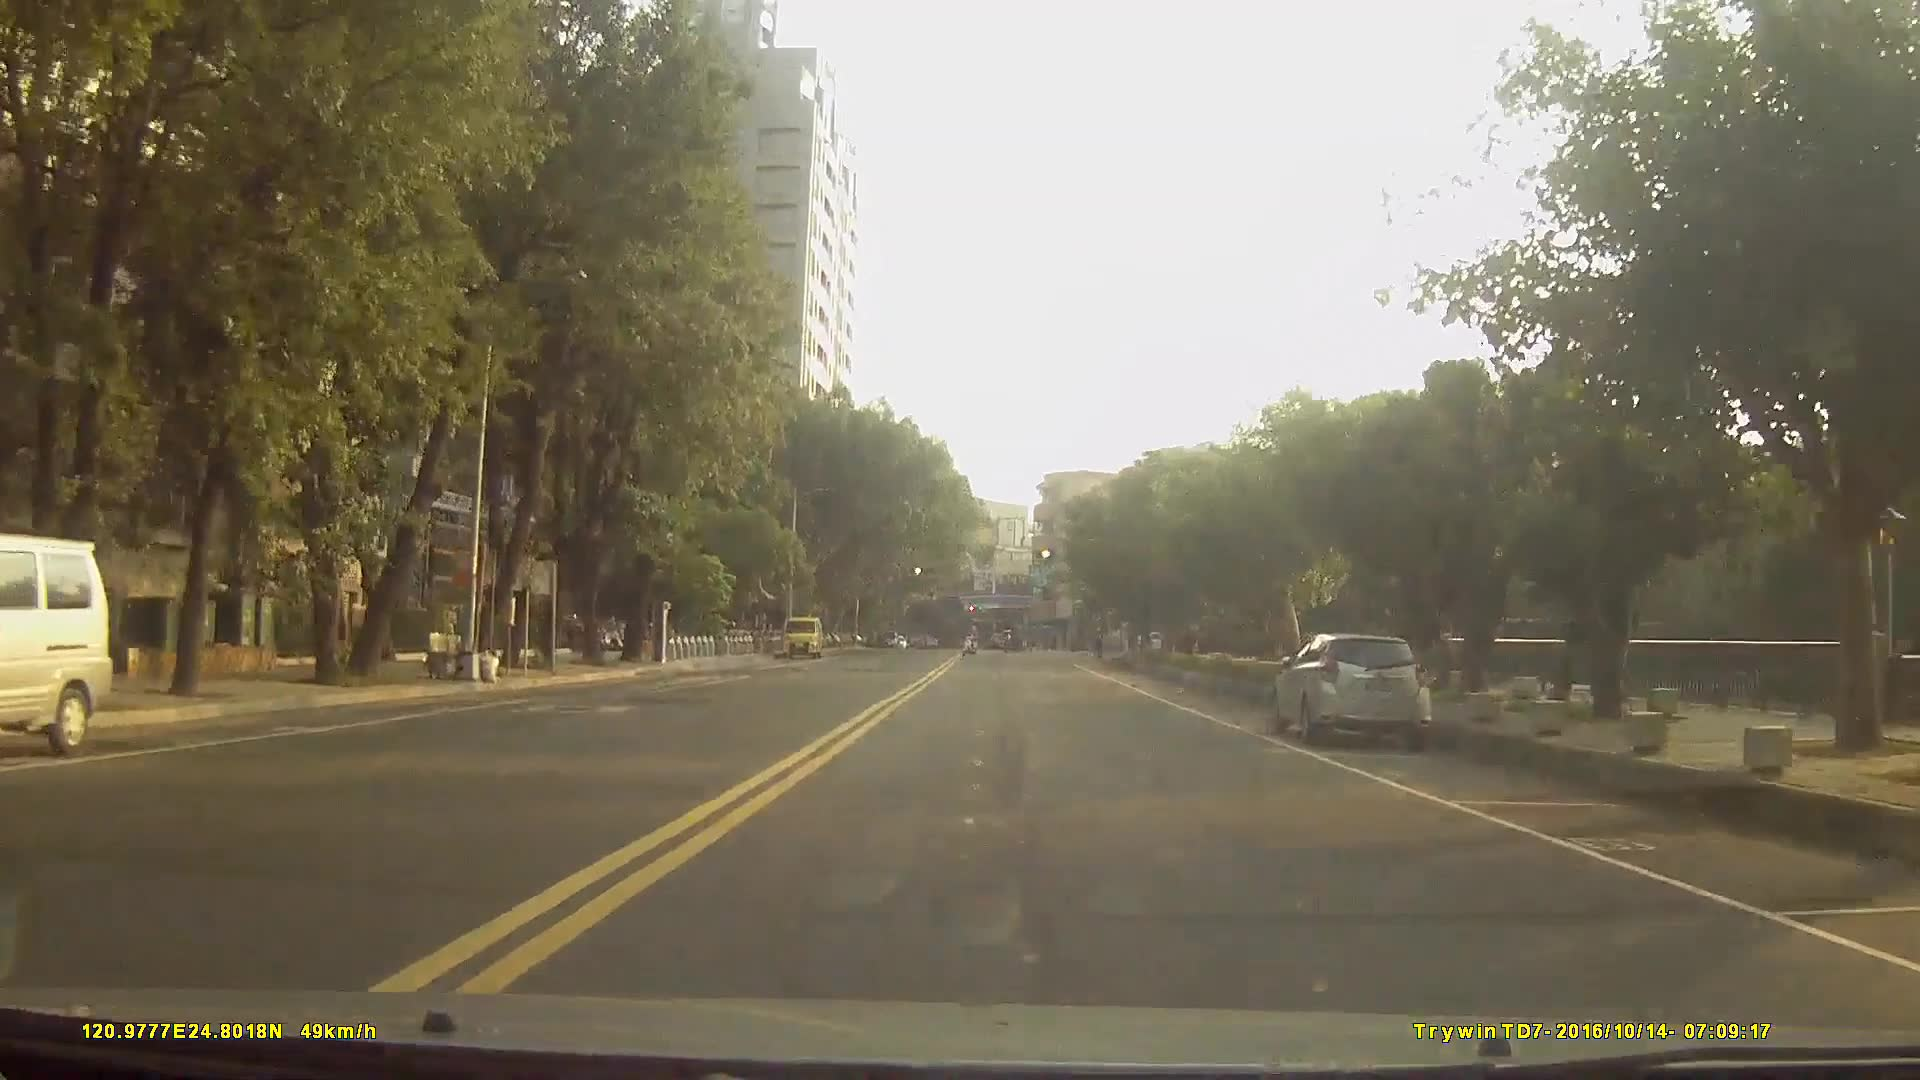vehicle: (0, 531, 115, 762), (1263, 636, 1433, 757), (998, 632, 1025, 657)
